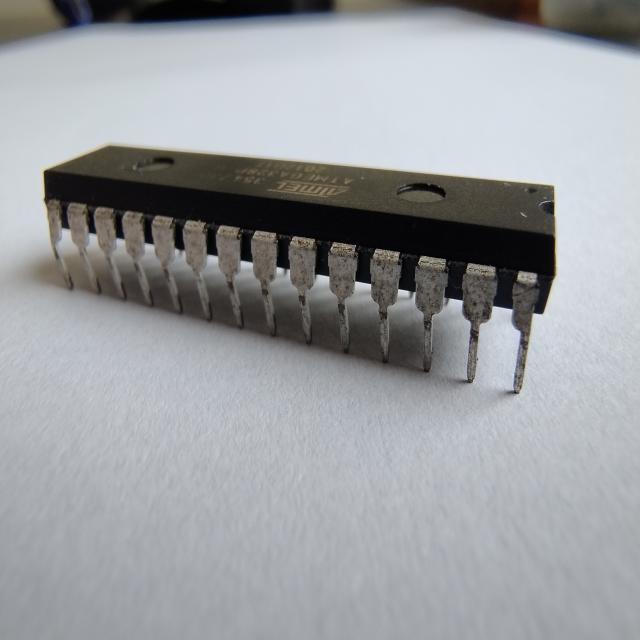atmega: (40, 139, 560, 397)
